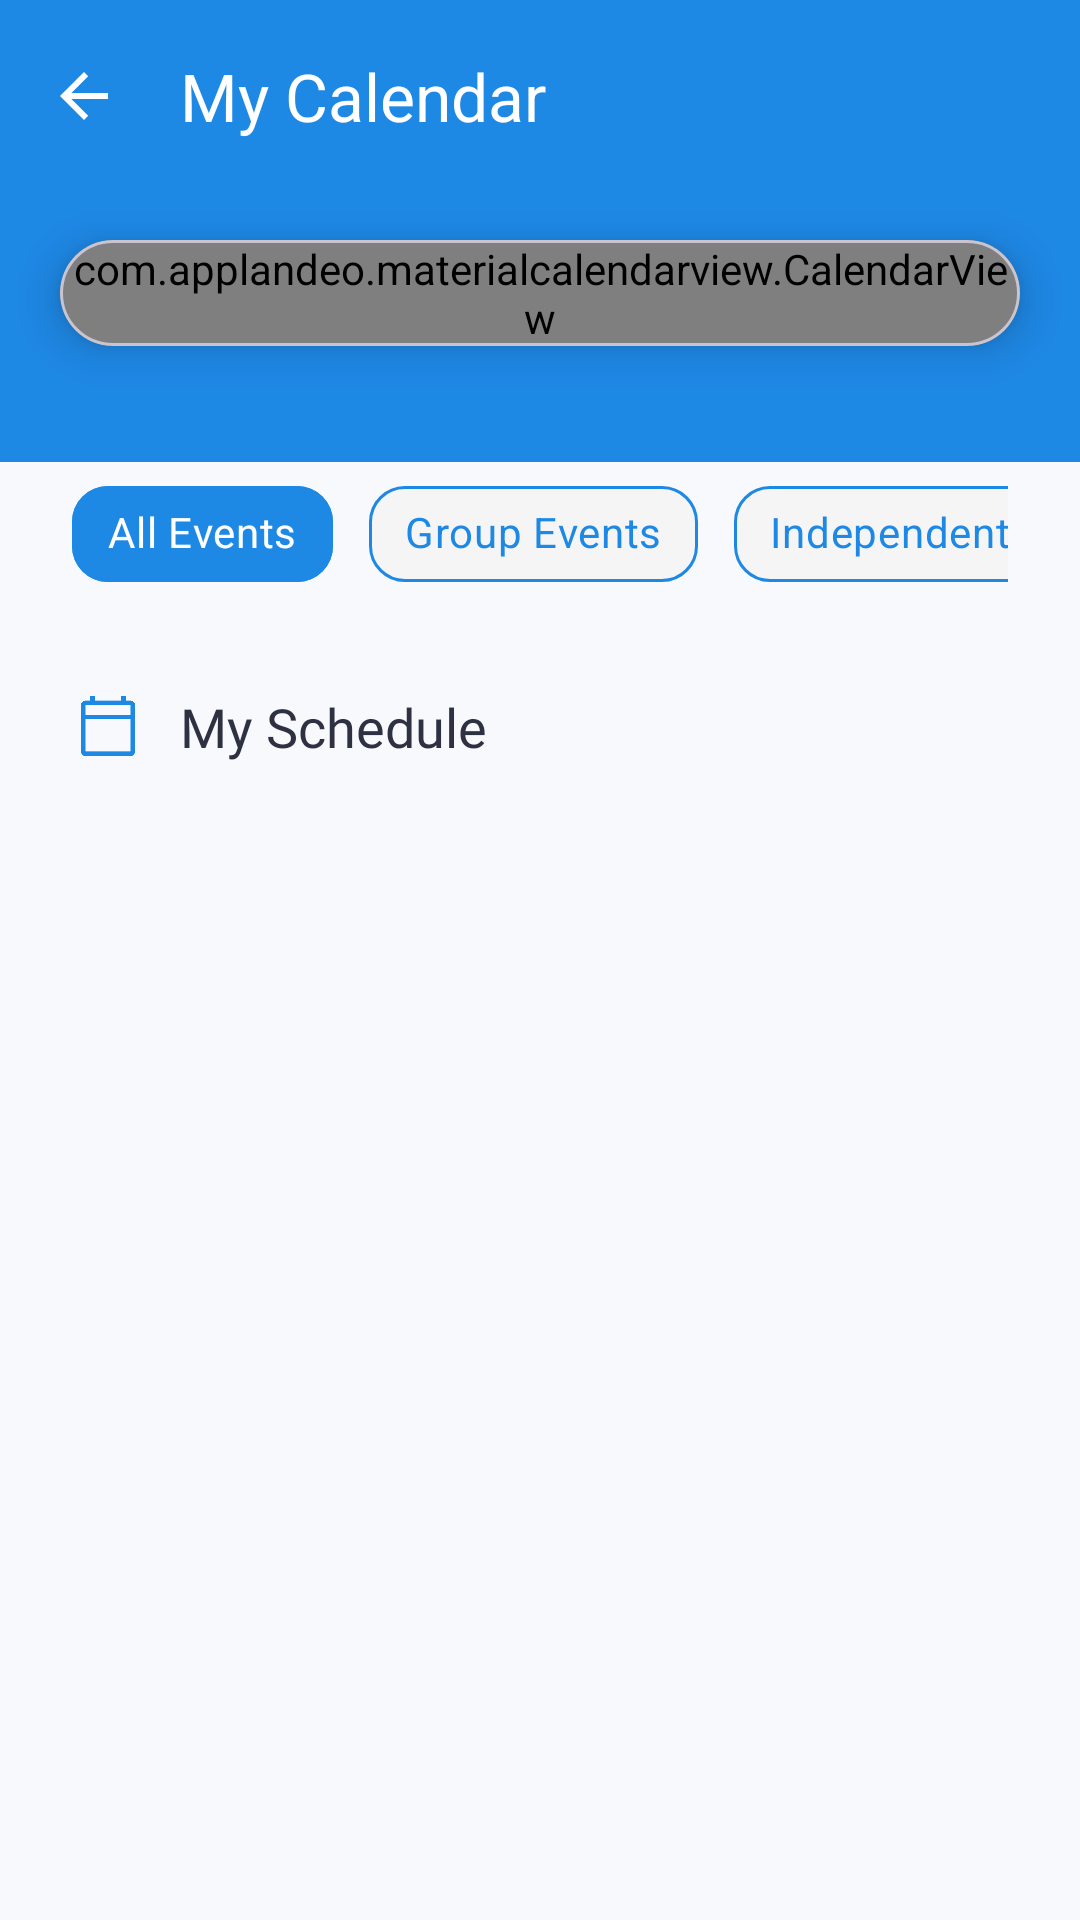

Locate icon controls on the screen. Image size 1080w x 1920h, boxes as bbox(x1, y1, x2, y2).
calendar: bbox(81, 696, 135, 756)
